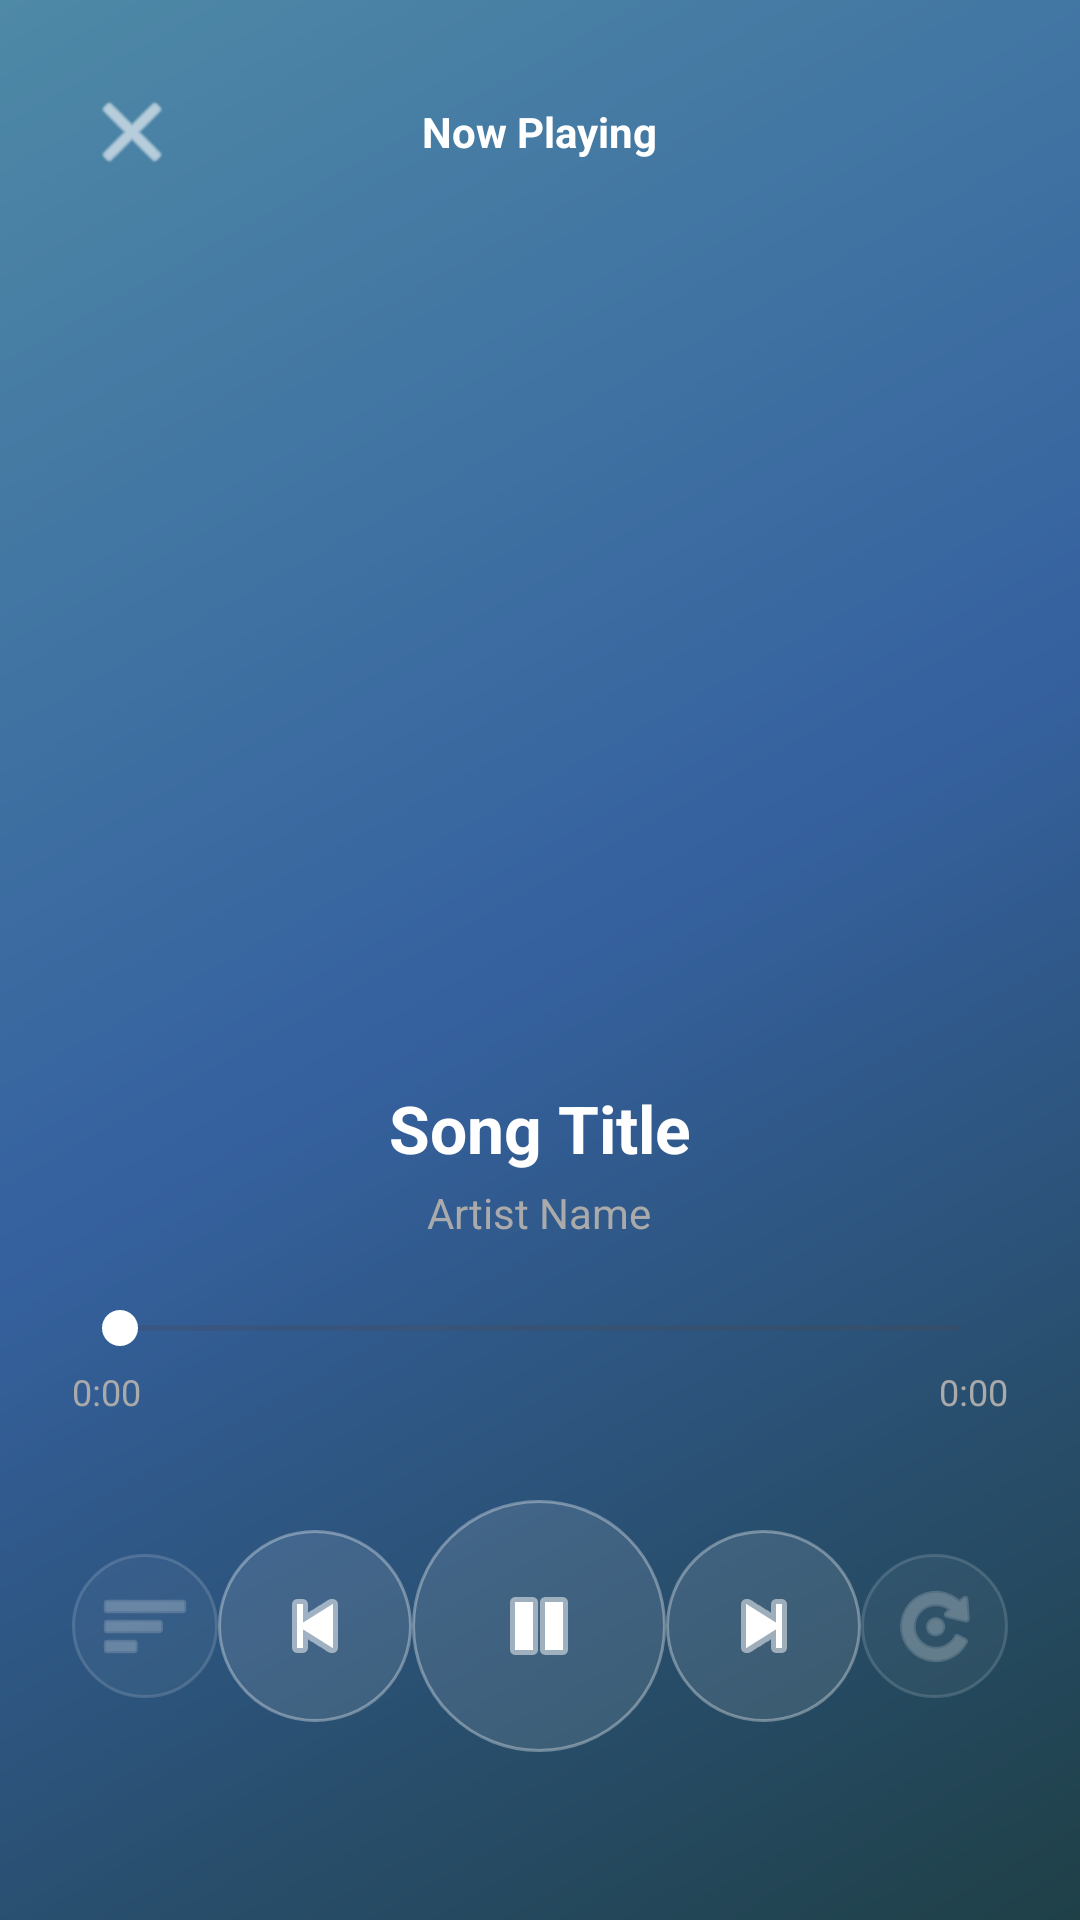

Screen size 1080x1920. Icon name, then its box in pixels as (x1, y1, x2, y2):
Close player: (102, 102, 162, 162)
Next: (666, 1530, 861, 1722)
Play or Pause: (510, 1597, 568, 1655)
Previous: (218, 1530, 412, 1722)
Repeat: (900, 1591, 970, 1662)
